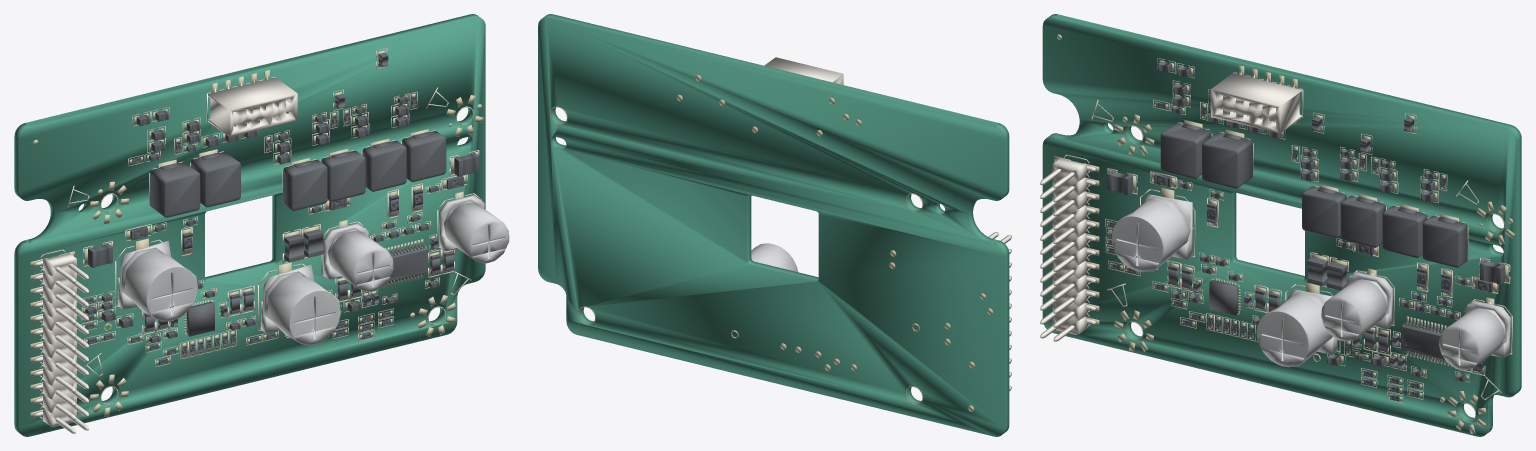
Rendered from pcb-amp.glb.
3 views of the same model, side by side, from view 1: azimuth 30°, elevation 25°; view 2: azimuth 150°, elevation 25°; view 3: azimuth 330°, elevation 25° (orthographic).
Visible parts, largest first — view 1: pcb, body, metal, plastic, pads, silk; view 2: pcb, pads, plastic, metal; view 3: pcb, body, metal, plastic, pads, silk.
Part boxes in pixels (bbox=[...]): pcb: bbox=[14, 14, 485, 436]; body: bbox=[85, 52, 479, 364]; metal: bbox=[117, 195, 509, 345]; plastic: bbox=[34, 75, 297, 433]; pads: bbox=[30, 50, 483, 417]; silk: bbox=[40, 48, 481, 419]; pcb: bbox=[538, 14, 1009, 436]; pads: bbox=[550, 75, 993, 411]; plastic: bbox=[764, 57, 1011, 391]; metal: bbox=[751, 243, 798, 271]; pcb: bbox=[1042, 14, 1521, 436]; body: bbox=[1106, 61, 1505, 401]; metal: bbox=[1111, 194, 1510, 370]; plastic: bbox=[1040, 71, 1302, 341]; pads: bbox=[1054, 34, 1514, 433]; silk: bbox=[1064, 58, 1512, 403].
Size of the model in its own units: 90.5 by 57.5 by 11.68.
